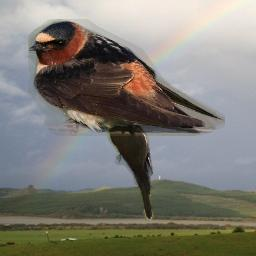Cuckoo: (92, 93, 156, 222)
Swallow: (28, 19, 225, 136)
